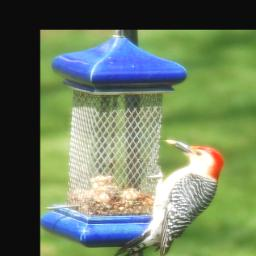Woodpecker: (106, 134, 224, 256)
